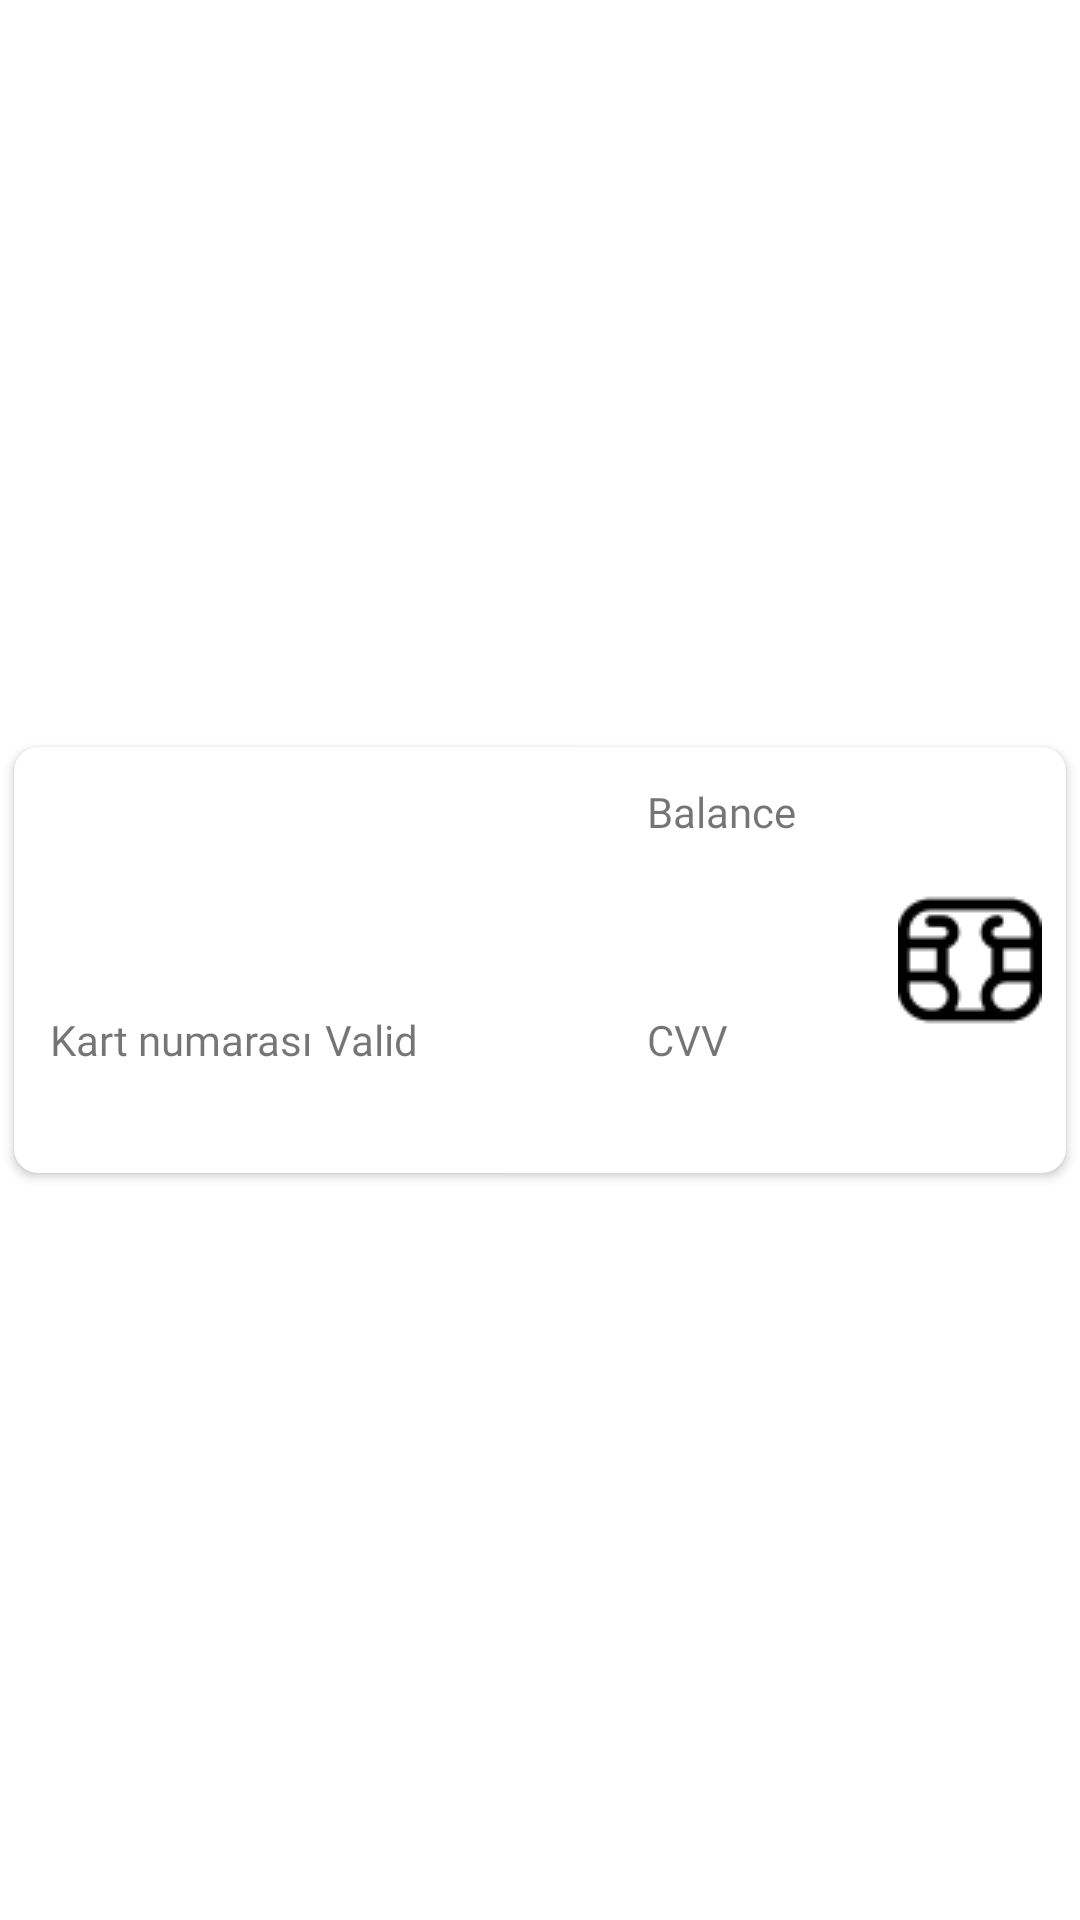

Point at icon controls on the screen. Image size 1080x1920, points as (x=x, y=y).
chip: (x=970, y=960)
